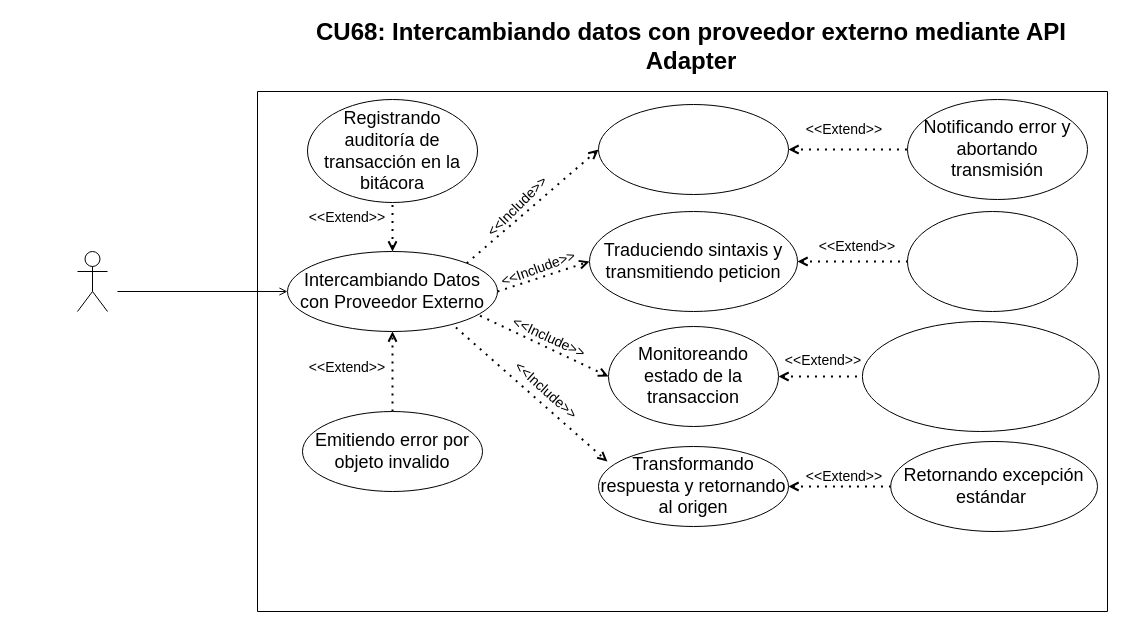
This 1126x630 diagram has some shape labels left out. The centre of each missing label's shape, as x and y in pixels:
"Emitiendo objeto interno hacia capa integradora" belongs at [693,149].
"Proveedor Externo" belongs at [92,281].
"Registrando latencia crítica" belongs at [980,376].
"Reintentado conexion externa" belongs at [992,261].
